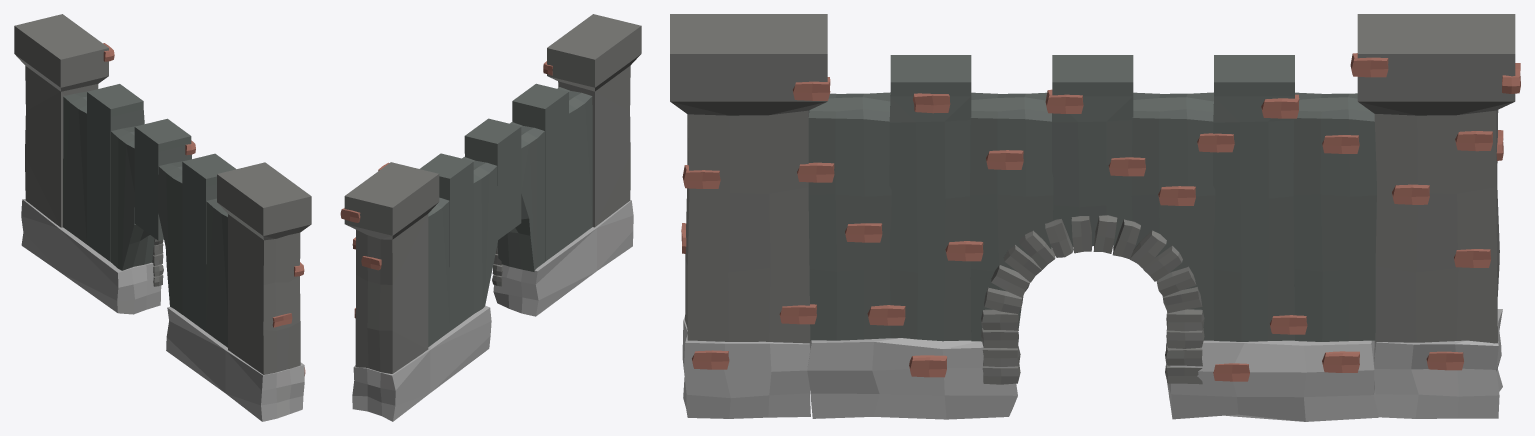
File: wall.fbx
The picture shows the model from 3 angles, left to right: view 1: azimuth 30°, elevation 25°; view 2: azimuth 150°, elevation 25°; view 3: azimuth 270°, elevation 25°; orthographic projection. The views are drawn at different scales.
Visible parts, largest first — view 1: Cube.004; view 2: Cube.004; view 3: Cube.004.
Part boxes in pixels (x1=…): Cube.004: x1=14, y1=14, x2=311, y2=421; Cube.004: x1=340, y1=14, x2=641, y2=421; Cube.004: x1=670, y1=14, x2=1520, y2=421.
Bounding box in the file's own units: 254 × 1023 × 2104.
